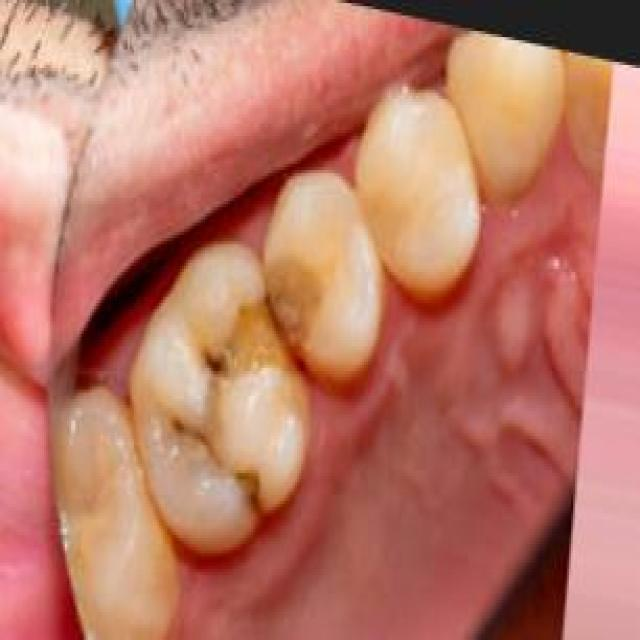caries: (191, 252, 325, 394), (158, 393, 282, 524)
